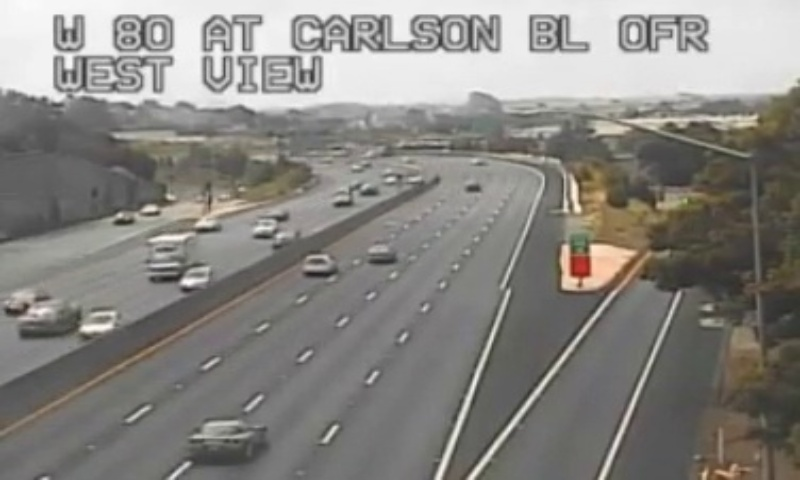car: (189, 418, 263, 461), (302, 252, 336, 275), (365, 245, 395, 263)
